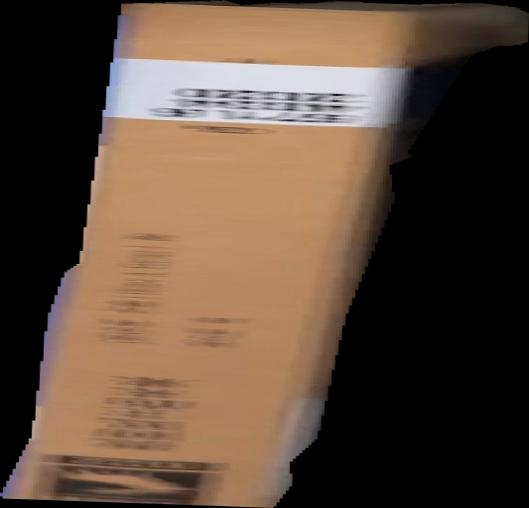reverse: (1, 1, 529, 508)
